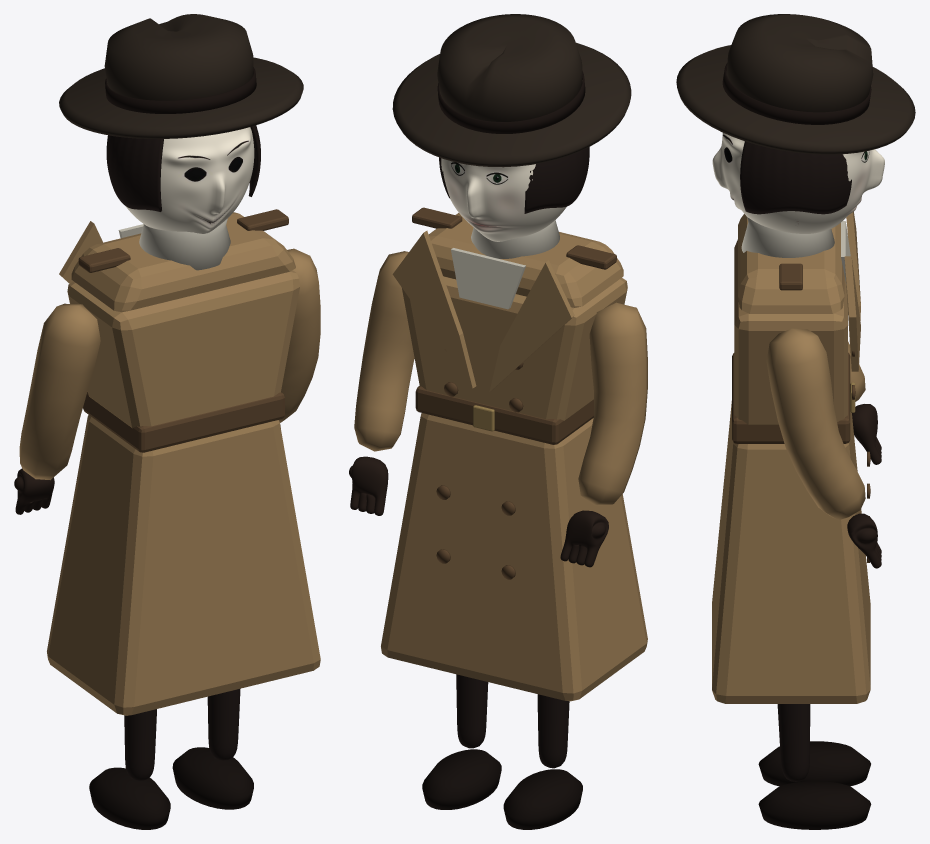
The model's file is mascara_detetive.glb.
3 renders of one model, left to right at view 1: azimuth 30°, elevation 25°; view 2: azimuth 150°, elevation 25°; view 3: azimuth 270°, elevation 25°, orthographic. The views are drawn at different scales.
Parts seen in each view (by area): view 1: sobretudo_saia, sobretudo_peito, copa, ombros, manga, aba, mascara, cinto, manga.001, sapato.001, sapato, cabelo.001 (+8 smaller); view 2: sobretudo_saia, sobretudo_peito, copa, aba, manga, manga.001, mascara, ombros, gola_trench.001, gola_trench, cinto, sapato (+11 smaller); view 3: sobretudo_saia, copa, manga.001, aba, sobretudo_peito, cabelo, ombros, mascara, sapato.001, sapato, gola, perna.001 (+7 smaller).
Boxes of the visible parts, left/top/right/bottom form: sobretudo_saia: left=47, top=415, right=320, bottom=715; sobretudo_peito: left=67, top=270, right=299, bottom=428; copa: left=104, top=14, right=253, bottom=100; ombros: left=71, top=212, right=295, bottom=312; manga: left=19, top=303, right=100, bottom=480; aba: left=59, top=57, right=303, bottom=138; mascara: left=126, top=127, right=254, bottom=233; cinto: left=83, top=392, right=284, bottom=452; manga.001: left=279, top=248, right=320, bottom=422; sapato.001: left=172, top=747, right=253, bottom=809; sapato: left=89, top=767, right=170, bottom=829; cabelo.001: left=106, top=135, right=163, bottom=211; sobretudo_saia: left=381, top=413, right=647, bottom=701; sobretudo_peito: left=402, top=276, right=627, bottom=420; copa: left=437, top=14, right=582, bottom=121; aba: left=392, top=42, right=631, bottom=167; manga: left=578, top=302, right=647, bottom=505; manga.001: left=354, top=251, right=414, bottom=451; mascara: left=441, top=158, right=566, bottom=241; ombros: left=428, top=213, right=623, bottom=307; gola_trench.001: left=392, top=230, right=476, bottom=388; gola_trench: left=489, top=260, right=574, bottom=392; cinto: left=415, top=386, right=593, bottom=444; sapato: left=503, top=769, right=582, bottom=829; sobretudo_saia: left=712, top=401, right=870, bottom=703; copa: left=726, top=14, right=873, bottom=112; manga.001: left=766, top=328, right=865, bottom=520; aba: left=676, top=45, right=915, bottom=154; sobretudo_peito: left=734, top=239, right=847, bottom=424; cabelo: left=740, top=141, right=851, bottom=214; ombros: left=738, top=214, right=844, bottom=313; mascara: left=712, top=133, right=884, bottom=233; sapato.001: left=758, top=781, right=871, bottom=829; sapato: left=758, top=741, right=870, bottom=786; gola: left=741, top=217, right=834, bottom=257; perna.001: left=777, top=704, right=810, bottom=781.
Size of the model in its own units: 0.6885 by 1.79 by 0.505.
Materials: 11 (1 with a texture image).
